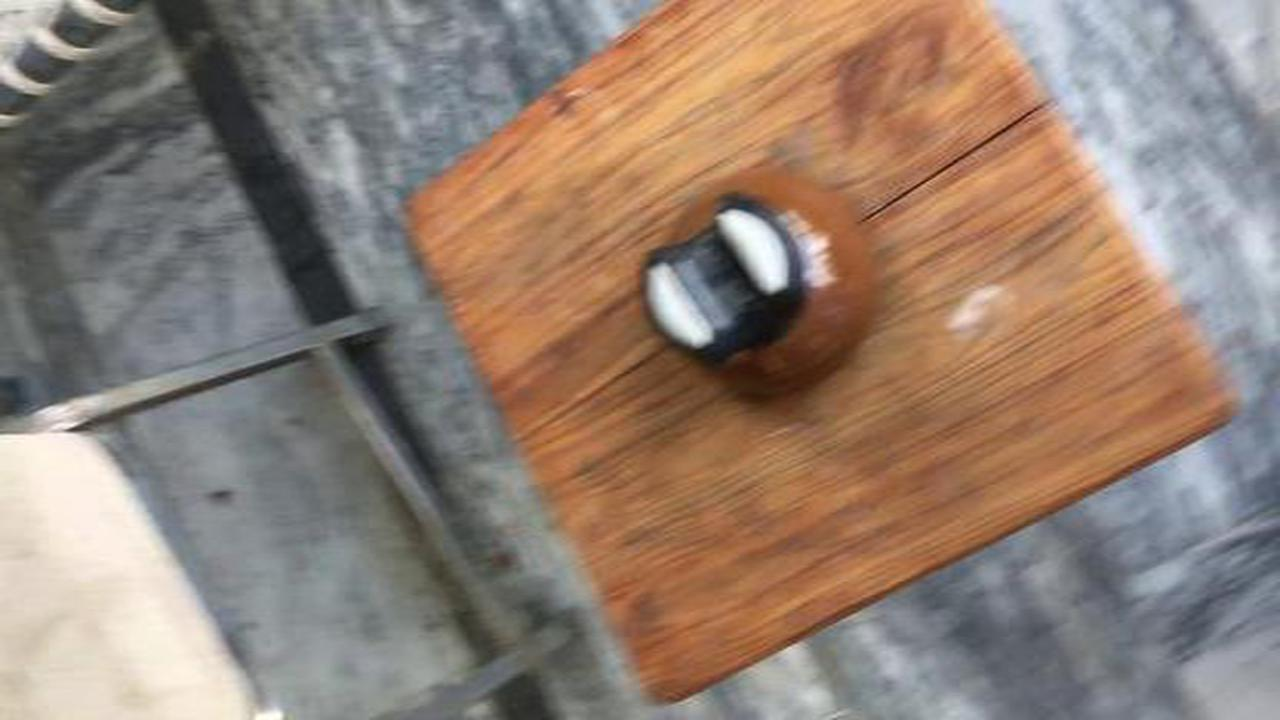insulator_pin: (622, 159, 905, 412)
